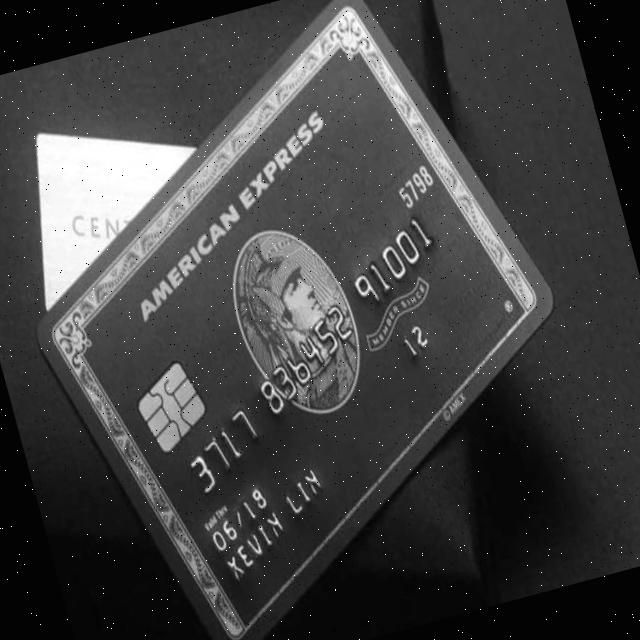card: (37, 0, 562, 640)
